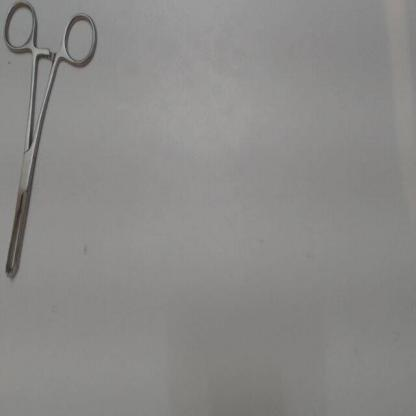Allis Tissue Forceps: (0, 0, 105, 285)
